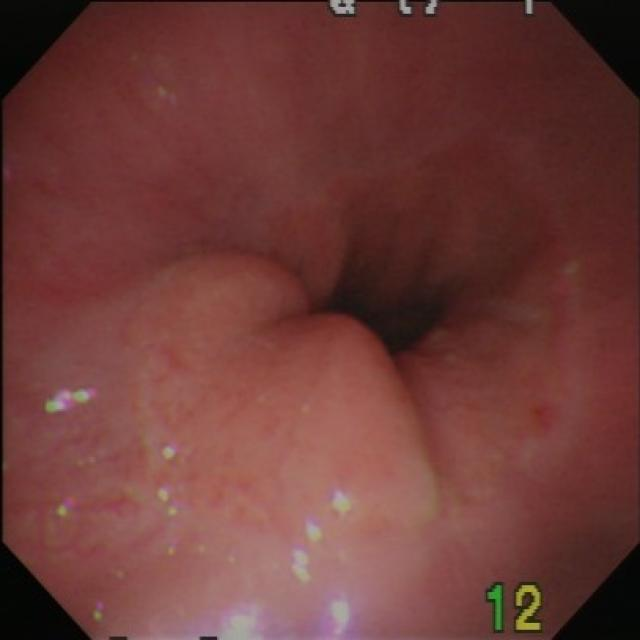E: (300, 241, 465, 367)
S: (485, 581, 547, 636), (325, 3, 545, 18)
U: (289, 489, 358, 588), (205, 603, 273, 640), (45, 386, 105, 415), (330, 595, 356, 638), (158, 487, 179, 521), (56, 496, 75, 521), (160, 444, 177, 463)
